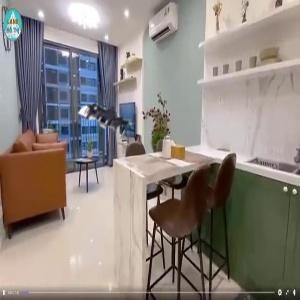drone: (74, 86, 144, 156)
